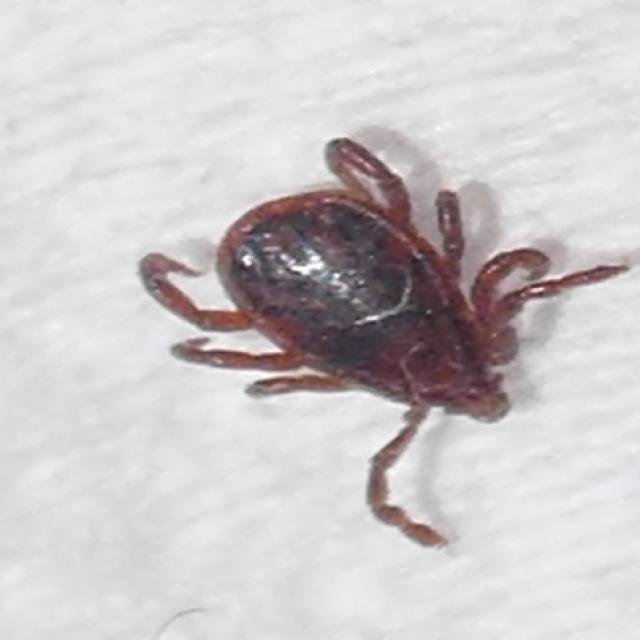Rhipicephalus Sanguineus-M: (138, 136, 629, 549)
